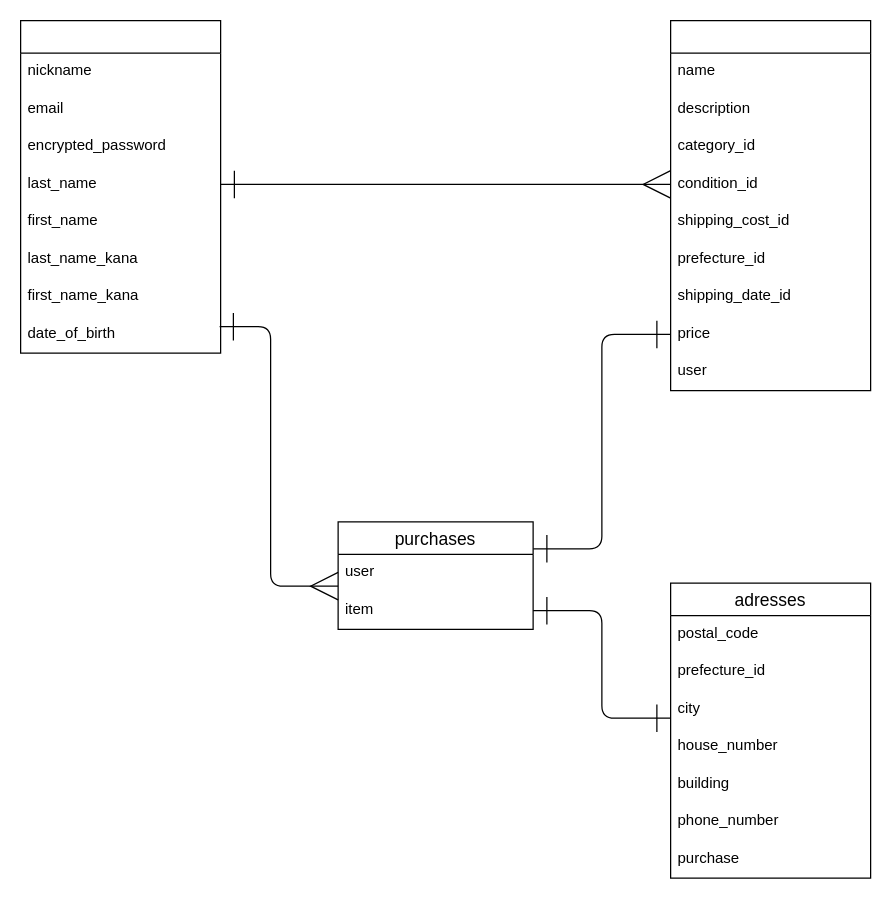
This 891x899 diagram has some shape labels left out. Each missing label, with the box of its shape:
items: (669, 19, 871, 391)
users: (19, 19, 221, 353)
